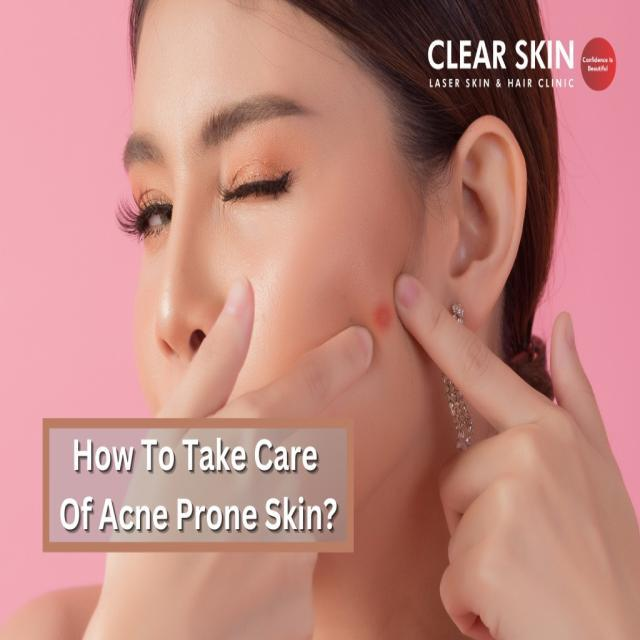acne: (370, 298, 398, 342)
